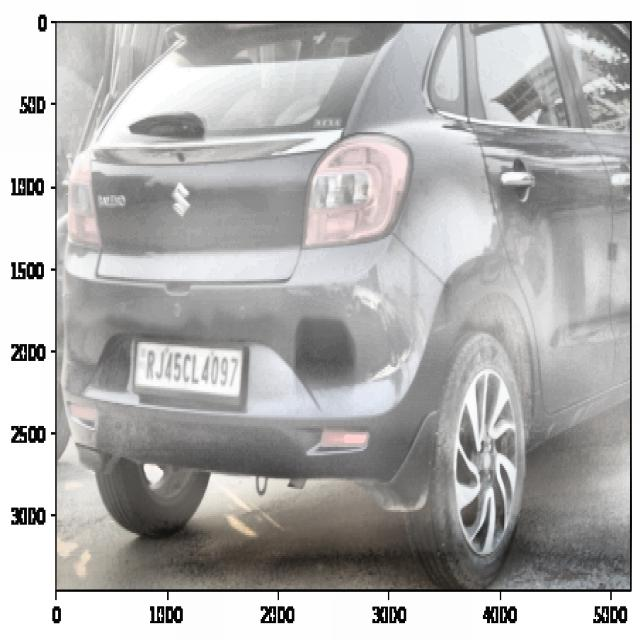license_plate: (141, 342, 244, 399)
